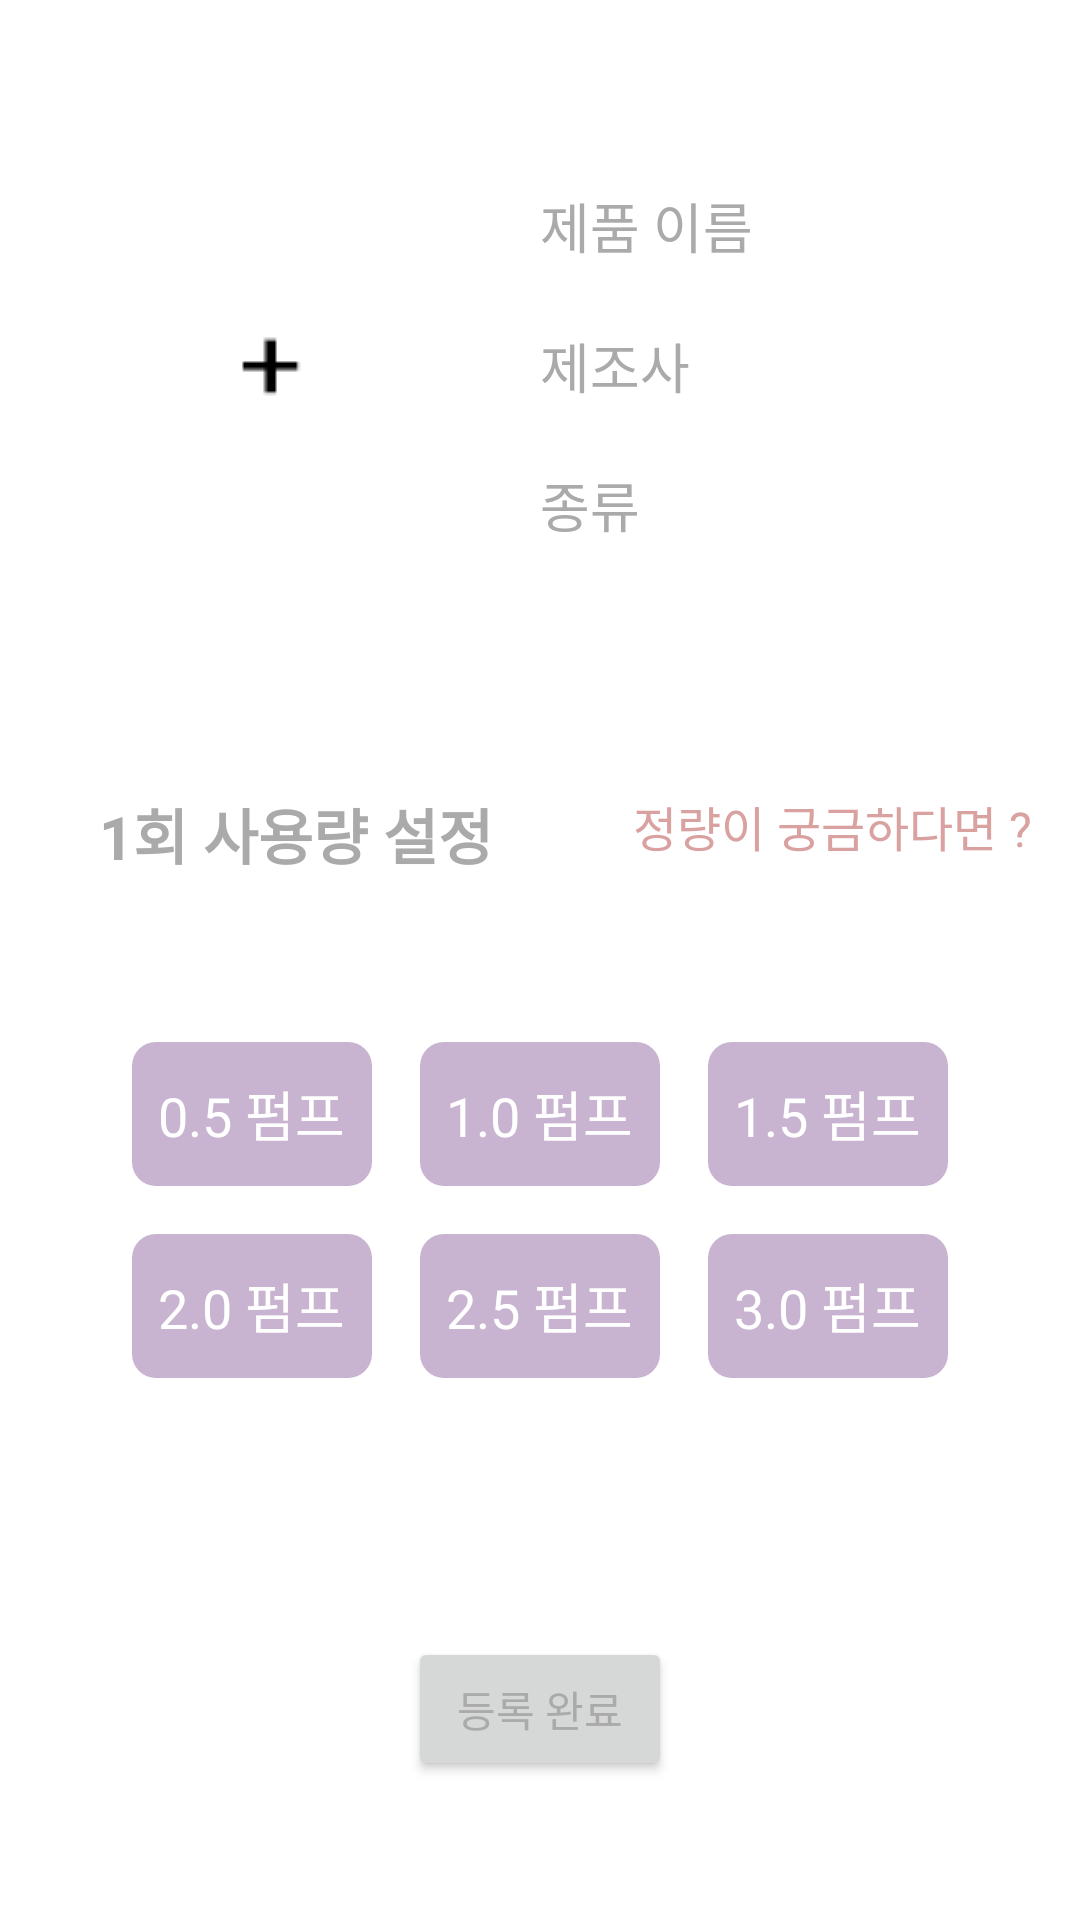

Named icons in this screenshot (1080px×1920px) and their bounding boxes, [x1=x1, y1=y1, x2=x2, y2=y2]:
add: [x1=242, y1=337, x2=300, y2=395]
